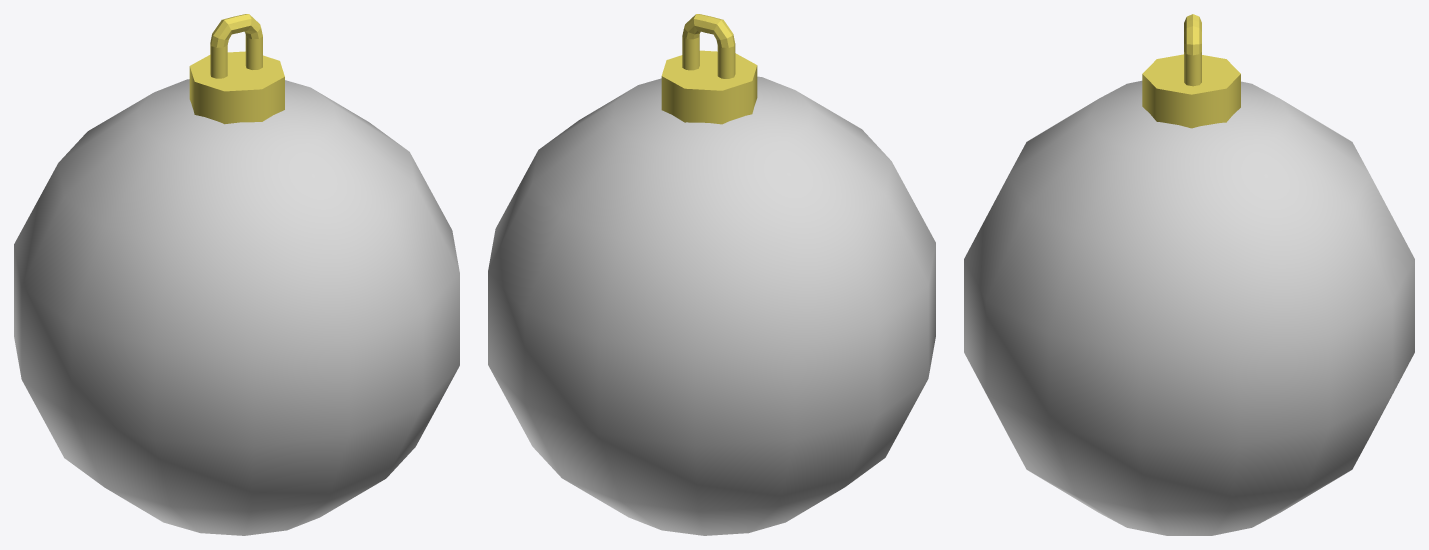
The model's file is M_Ball_04.FBX.
The picture shows the model from 3 angles, left to right: view 1: azimuth 30°, elevation 25°; view 2: azimuth 150°, elevation 25°; view 3: azimuth 270°, elevation 25°; orthographic projection.
Visible parts, largest first — view 1: Sphere005; view 2: Sphere005; view 3: Sphere005.
Boxes of the visible parts, x1=… form: Sphere005: x1=14, y1=14, x2=459, y2=535; Sphere005: x1=488, y1=14, x2=935, y2=535; Sphere005: x1=964, y1=14, x2=1414, y2=535.
Size of the model in its own units: 21.83 by 27.2 by 22.39.
1 material, 1 textured.
